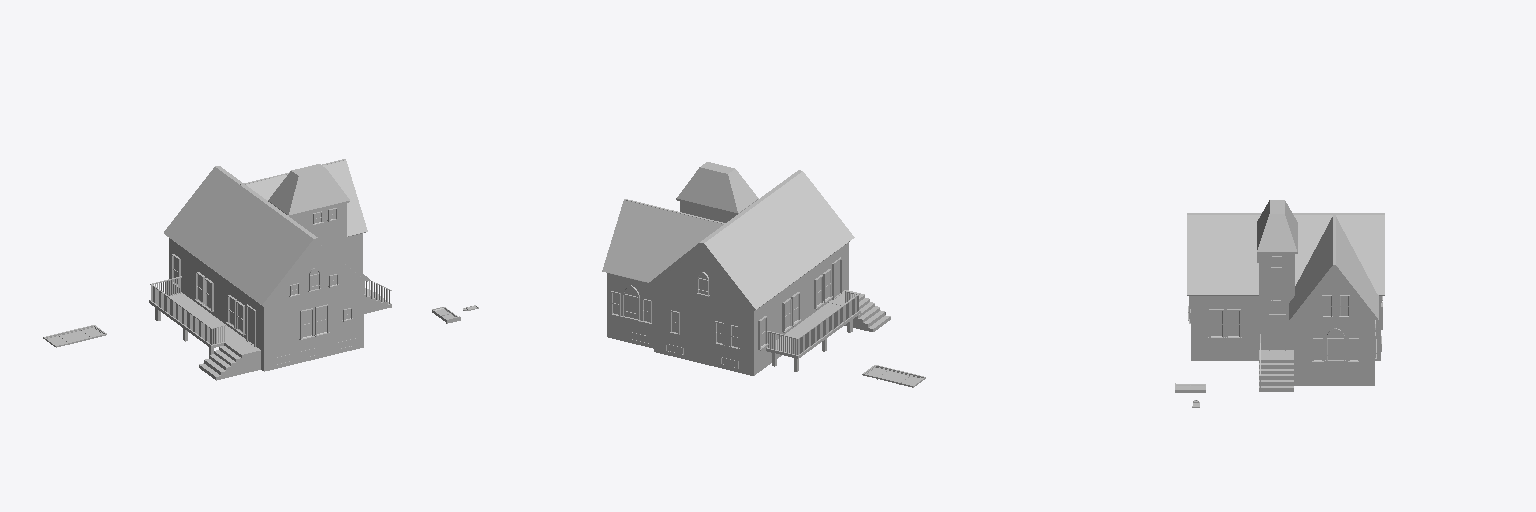
The model's file is house_4.obj.
The picture shows the model from 3 angles: view 1: azimuth 30°, elevation 25°; view 2: azimuth 150°, elevation 25°; view 3: azimuth 270°, elevation 25°; orthographic projection.
Parts seen in each view (by area): view 1: house_4_with_materials; view 2: house_4_with_materials; view 3: house_4_with_materials.
Boxes of the visible parts, x1=… form: house_4_with_materials: x1=43, y1=159, x2=478, y2=380; house_4_with_materials: x1=602, y1=162, x2=925, y2=387; house_4_with_materials: x1=1175, y1=200, x2=1384, y2=407.
Bounding box in the file's own units: 28.67 × 11.4 × 14.56.